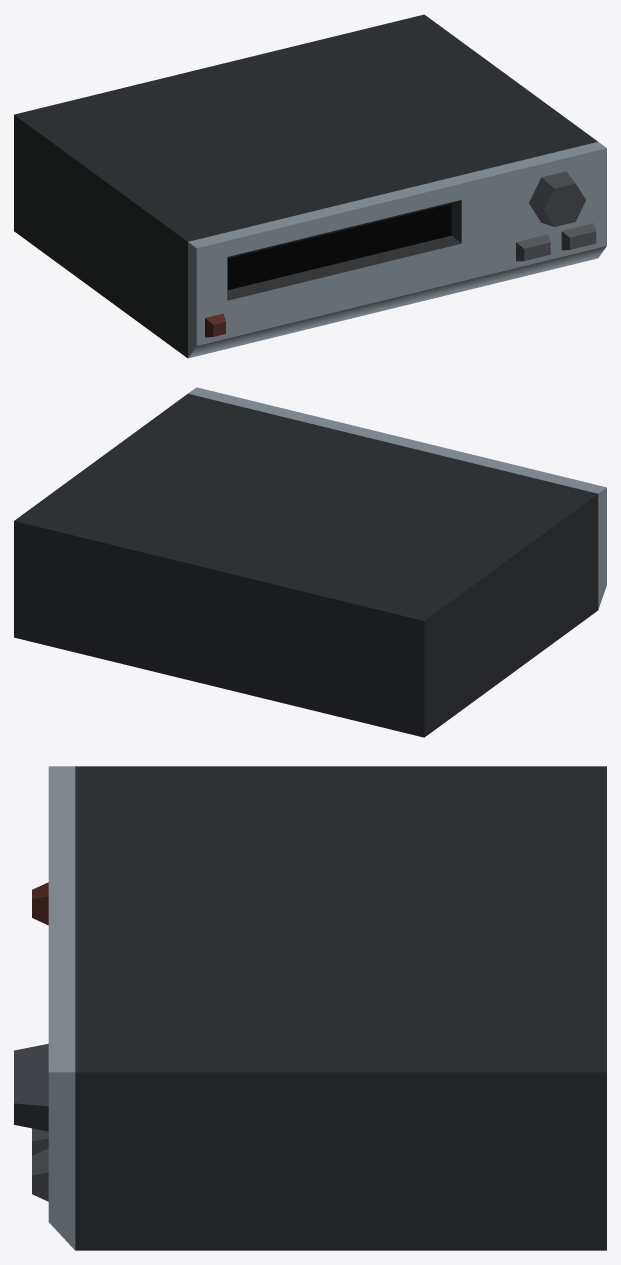
File: SM_Prop_Electronics_VCR_02.glb
3 renders of one model, top to bottom at view 1: azimuth 30°, elevation 25°; view 2: azimuth 150°, elevation 25°; view 3: azimuth 270°, elevation 25°, orthographic. The views are drawn at different scales.
Visible parts, largest first — view 1: SM_Prop_Electronics_VCR_02; view 2: SM_Prop_Electronics_VCR_02; view 3: SM_Prop_Electronics_VCR_02.
Boxes of the visible parts, x1,y1,x2,y2 form: SM_Prop_Electronics_VCR_02: (14,14,606,358); SM_Prop_Electronics_VCR_02: (14,387,606,737); SM_Prop_Electronics_VCR_02: (14,766,606,1250).
Bounding box in the file's own units: 0.7326 × 0.1989 × 0.5996.
Materials: 1 (1 with a texture image).
